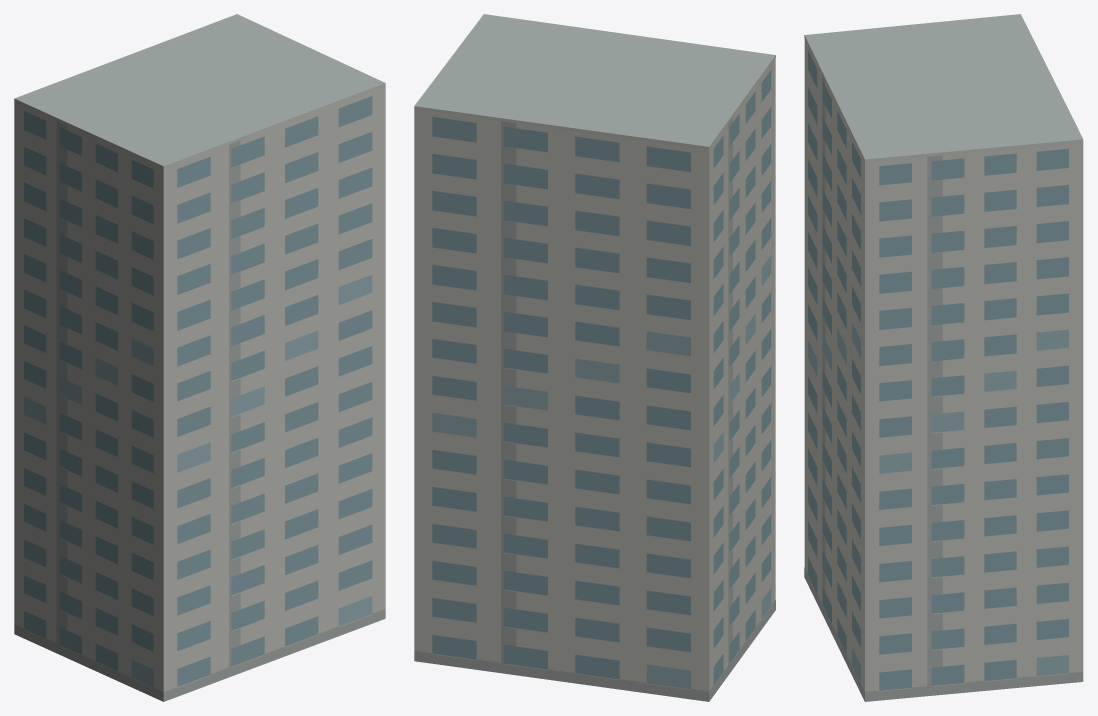
The model's file is survey-upis-32643287.glb.
The picture shows the model from 3 angles, left to right: view 1: azimuth 30°, elevation 25°; view 2: azimuth 150°, elevation 25°; view 3: azimuth 270°, elevation 25°; orthographic projection. The views are drawn at different scales.
Parts seen in each view (by area): view 1: survey-upis-32643287.tmp; view 2: survey-upis-32643287.tmp; view 3: survey-upis-32643287.tmp.
Boxes of the visible parts, box(x1,y1,x2,y2) form: survey-upis-32643287.tmp: box(14, 14, 385, 701); survey-upis-32643287.tmp: box(414, 14, 775, 701); survey-upis-32643287.tmp: box(804, 14, 1083, 701).
Bounding box in the file's own units: 26.33 × 45.75 × 21.33.
